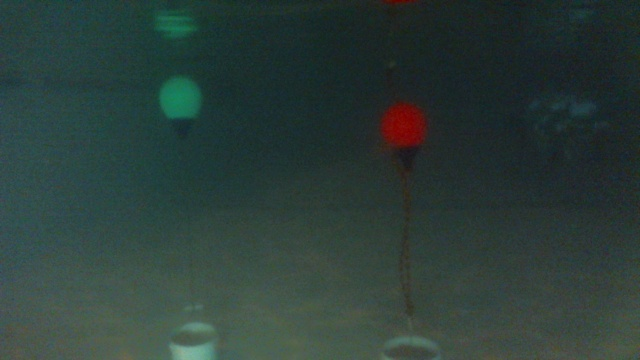buoy_green: (157, 71, 203, 140)
buoy_red: (380, 101, 426, 169)
